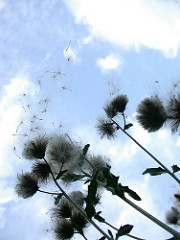dandelion: (131, 89, 169, 138), (12, 129, 54, 162), (10, 170, 41, 200), (106, 90, 132, 117)
